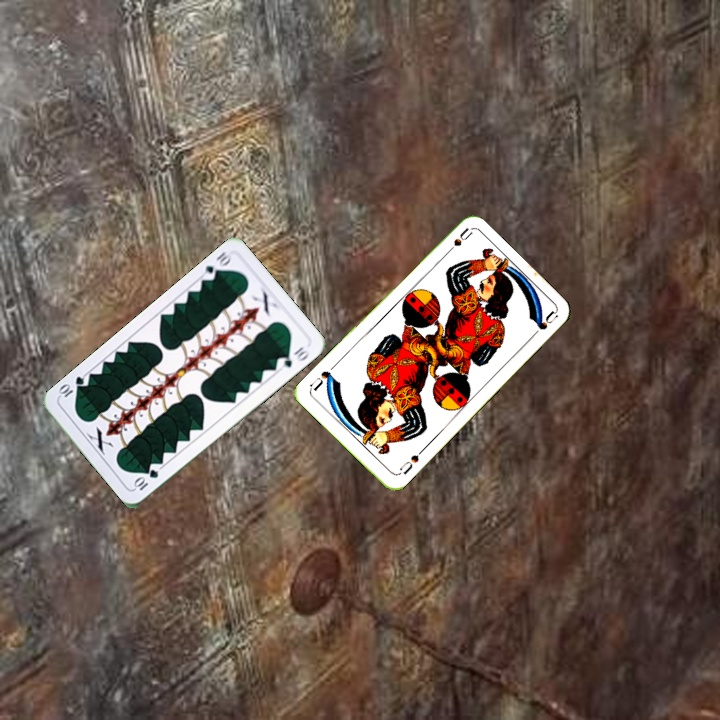G10: (201, 247, 235, 284), (130, 465, 161, 493)
SU: (440, 224, 474, 259), (395, 445, 426, 478)
